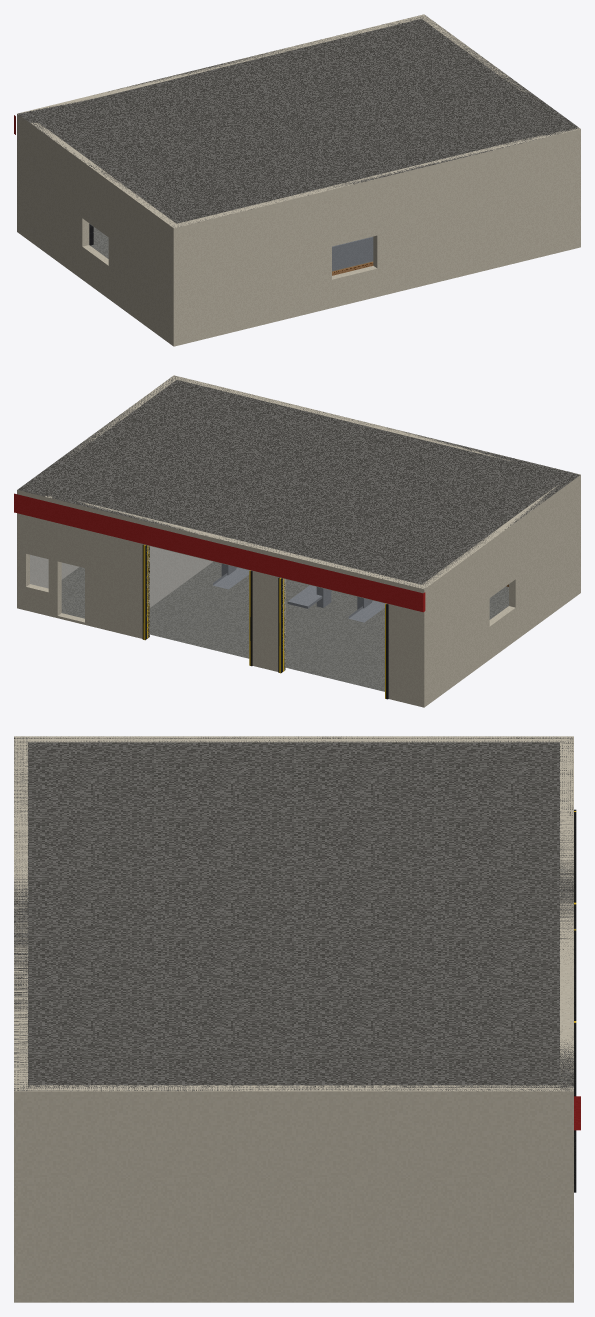
The model's file is mechanic_shop.glb.
3 views of the same model, one above another, from view 1: azimuth 30°, elevation 25°; view 2: azimuth 150°, elevation 25°; view 3: azimuth 270°, elevation 25° (orthographic). The views are drawn at different scales.
Visible parts, largest first — view 1: mechanic_shop; view 2: mechanic_shop; view 3: mechanic_shop.
Boxes of the visible parts, x1=… form: mechanic_shop: x1=14, y1=14, x2=580, y2=346; mechanic_shop: x1=14, y1=375, x2=580, y2=707; mechanic_shop: x1=14, y1=736, x2=580, y2=1302.
Size of the model in its own units: 18.1 by 5 by 12.15.
Materials: 10 (10 with a texture image).
